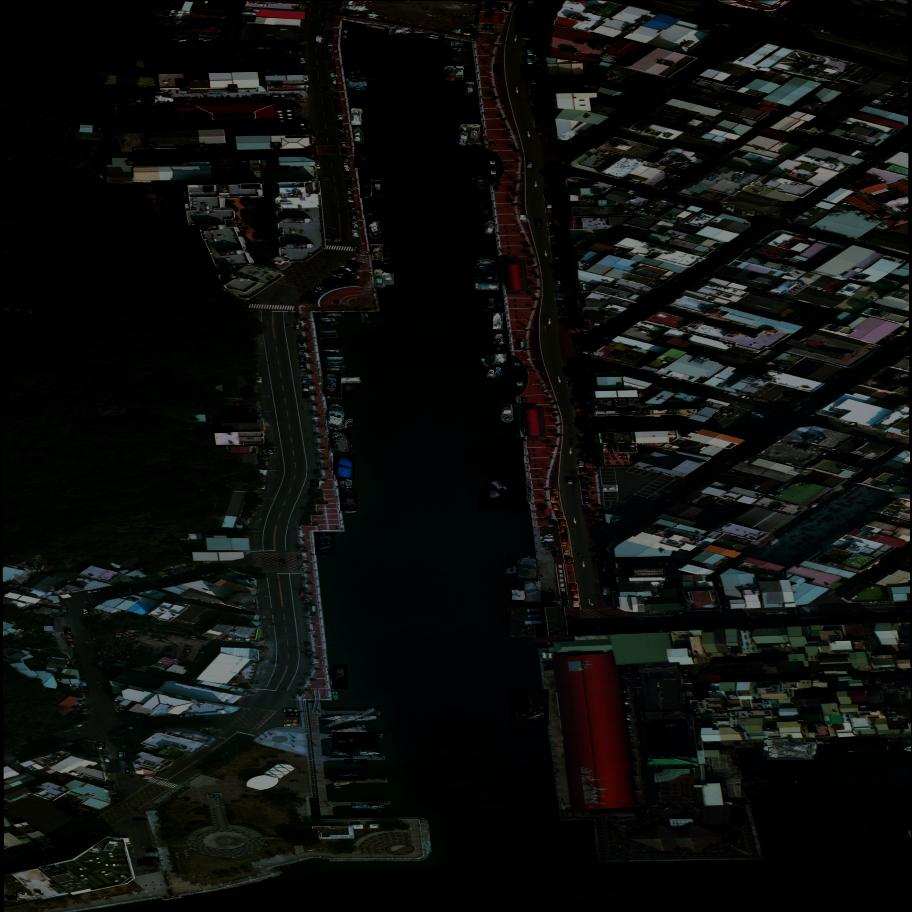large-vehicle: (352, 108, 362, 125), (316, 36, 322, 42)
ship: (509, 687, 549, 729), (321, 707, 377, 731), (491, 475, 531, 508), (478, 488, 529, 513), (762, 740, 818, 759), (780, 771, 813, 798), (333, 733, 379, 751), (742, 776, 768, 805), (472, 451, 522, 466), (498, 434, 524, 462), (326, 402, 348, 431), (769, 773, 792, 800), (480, 460, 524, 474), (333, 454, 356, 480), (329, 429, 352, 455), (218, 410, 257, 425), (847, 739, 888, 753), (767, 750, 815, 761), (314, 532, 335, 555), (331, 770, 368, 783), (758, 773, 775, 801), (351, 800, 384, 814), (323, 373, 342, 397), (518, 557, 538, 579), (329, 727, 368, 738), (455, 122, 472, 147), (354, 148, 373, 170), (340, 488, 357, 512), (366, 221, 384, 242), (524, 582, 541, 604), (332, 665, 348, 688), (494, 332, 510, 352), (414, 33, 445, 43), (381, 244, 396, 264), (478, 200, 493, 219), (855, 746, 889, 754), (468, 124, 481, 144), (500, 405, 515, 422), (510, 583, 525, 600), (370, 244, 384, 262), (374, 270, 387, 289), (342, 384, 356, 401), (373, 180, 386, 198), (331, 749, 353, 759), (361, 24, 388, 32), (507, 557, 518, 576), (483, 220, 496, 235), (389, 29, 413, 37), (361, 179, 371, 198), (475, 288, 498, 296), (444, 67, 456, 82), (384, 272, 396, 287), (339, 377, 361, 385), (475, 283, 499, 290), (493, 314, 503, 329), (492, 406, 502, 421), (453, 66, 464, 79), (358, 751, 381, 757), (344, 759, 367, 765), (479, 176, 489, 189), (342, 29, 352, 42), (365, 203, 375, 216), (480, 271, 496, 279), (464, 64, 473, 78), (496, 353, 506, 365), (477, 258, 496, 264), (354, 128, 362, 142), (487, 368, 497, 379), (452, 49, 467, 56), (467, 83, 475, 96), (451, 52, 468, 58), (349, 85, 369, 90), (453, 46, 467, 53), (477, 267, 493, 273), (348, 83, 367, 88), (474, 177, 480, 192), (347, 417, 355, 428), (322, 338, 344, 342), (496, 298, 504, 309), (477, 261, 494, 266), (328, 345, 342, 351), (334, 782, 355, 786), (451, 42, 465, 48), (322, 325, 338, 330), (319, 318, 335, 323), (452, 44, 465, 50), (488, 298, 495, 309), (321, 334, 335, 339), (330, 363, 344, 368), (324, 350, 341, 354), (453, 57, 470, 61), (345, 478, 353, 486), (330, 369, 346, 373), (475, 266, 491, 270), (495, 368, 503, 376), (345, 80, 376, 82), (326, 314, 341, 318), (321, 331, 336, 335), (476, 278, 495, 281), (321, 321, 335, 325), (491, 355, 497, 364), (331, 372, 348, 375), (354, 387, 360, 395), (486, 356, 492, 364), (350, 78, 373, 80), (328, 362, 343, 365), (483, 300, 488, 309), (492, 339, 498, 346), (327, 358, 343, 360), (321, 328, 337, 330), (451, 61, 466, 63), (366, 314, 371, 320), (351, 89, 365, 91), (487, 340, 492, 345), (328, 344, 340, 346), (327, 355, 343, 356), (454, 56, 469, 57), (349, 75, 363, 76)
small-vehicle: (301, 295, 315, 306), (699, 20, 714, 30), (715, 409, 730, 418), (824, 184, 838, 193), (751, 411, 765, 420), (603, 485, 618, 493), (540, 534, 555, 542), (643, 510, 656, 519), (599, 416, 610, 426), (780, 200, 792, 209), (673, 13, 688, 20), (137, 860, 152, 867), (886, 432, 899, 440), (784, 391, 797, 399), (722, 205, 735, 213), (706, 43, 716, 53), (492, 2, 502, 12), (78, 699, 89, 708), (333, 271, 347, 278), (329, 274, 343, 281), (745, 236, 759, 243), (695, 51, 707, 59), (348, 260, 361, 267), (742, 210, 755, 217), (310, 479, 319, 489), (284, 718, 299, 724), (286, 711, 301, 717), (714, 37, 723, 47), (554, 277, 564, 286), (672, 625, 687, 631), (578, 143, 587, 153), (316, 285, 327, 293), (855, 436, 869, 442), (814, 191, 826, 198), (720, 409, 734, 415), (611, 518, 623, 525), (326, 53, 335, 62), (494, 64, 503, 73), (714, 259, 724, 267), (347, 264, 360, 270), (843, 422, 856, 428), (303, 294, 315, 300), (325, 30, 334, 38), (613, 534, 624, 540), (326, 278, 339, 283), (350, 212, 358, 220), (342, 163, 350, 171), (329, 70, 337, 78), (565, 557, 573, 565), (561, 534, 569, 542), (555, 293, 564, 300), (336, 270, 348, 275), (285, 723, 297, 728), (485, 24, 497, 29), (328, 62, 336, 69), (330, 78, 338, 85), (604, 588, 611, 596), (593, 557, 601, 564), (551, 488, 559, 495), (147, 852, 158, 857), (291, 322, 302, 327), (299, 355, 306, 362), (304, 75, 311, 82), (64, 628, 71, 635), (83, 609, 90, 616), (572, 591, 579, 598), (571, 585, 578, 592), (556, 512, 563, 519), (535, 219, 542, 226), (569, 381, 576, 388), (321, 87, 329, 93), (308, 293, 320, 297), (486, 1, 492, 9), (581, 483, 589, 489), (352, 221, 358, 228), (268, 448, 274, 455), (337, 114, 344, 120), (716, 24, 730, 27), (560, 528, 567, 534), (578, 461, 585, 467), (347, 188, 353, 194), (299, 46, 305, 52), (330, 16, 336, 22), (86, 616, 92, 622), (573, 601, 579, 607), (708, 202, 720, 205), (602, 567, 608, 573), (502, 4, 508, 10), (560, 520, 566, 526), (326, 40, 333, 45), (333, 92, 338, 99), (335, 121, 342, 126), (578, 352, 589, 355), (309, 290, 324, 292), (352, 231, 358, 236), (303, 377, 308, 383), (300, 58, 306, 63), (335, 108, 341, 113), (340, 142, 346, 147), (125, 768, 130, 774), (532, 100, 537, 106), (527, 163, 533, 168), (564, 550, 570, 555), (551, 496, 556, 502), (567, 477, 573, 482), (320, 285, 334, 287), (98, 743, 105, 747), (337, 127, 344, 131), (715, 468, 722, 472), (631, 95, 640, 98), (540, 539, 553, 541), (300, 363, 305, 368), (342, 149, 347, 154), (559, 310, 564, 315), (550, 230, 555, 235), (548, 222, 553, 227), (298, 340, 302, 346), (339, 267, 351, 269), (298, 349, 304, 353), (303, 384, 309, 388), (347, 196, 353, 200), (327, 47, 333, 51), (553, 505, 559, 509), (609, 372, 621, 374), (552, 247, 558, 251), (280, 559, 284, 564), (345, 173, 350, 177), (318, 20, 323, 24), (63, 607, 67, 612), (146, 850, 156, 852), (525, 33, 529, 38), (548, 205, 553, 209), (521, 216, 526, 220), (563, 542, 567, 547), (558, 302, 562, 307), (554, 253, 559, 257), (120, 752, 123, 758), (303, 393, 307, 397), (537, 129, 541, 133), (339, 134, 344, 137), (144, 858, 158, 859), (285, 710, 298, 711), (66, 636, 72, 638), (734, 9, 746, 10), (579, 468, 583, 471), (714, 415, 725, 416)
storage-tank: (7, 897, 17, 900), (17, 894, 27, 896), (36, 891, 40, 892)
